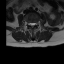CCS_normal: (31, 21, 33, 29)
LFS_normal: (35, 21, 37, 26)
LLS_normal: (33, 21, 35, 26)
RFS_normal: (27, 21, 29, 26)
RLS_normal: (29, 21, 31, 27)
